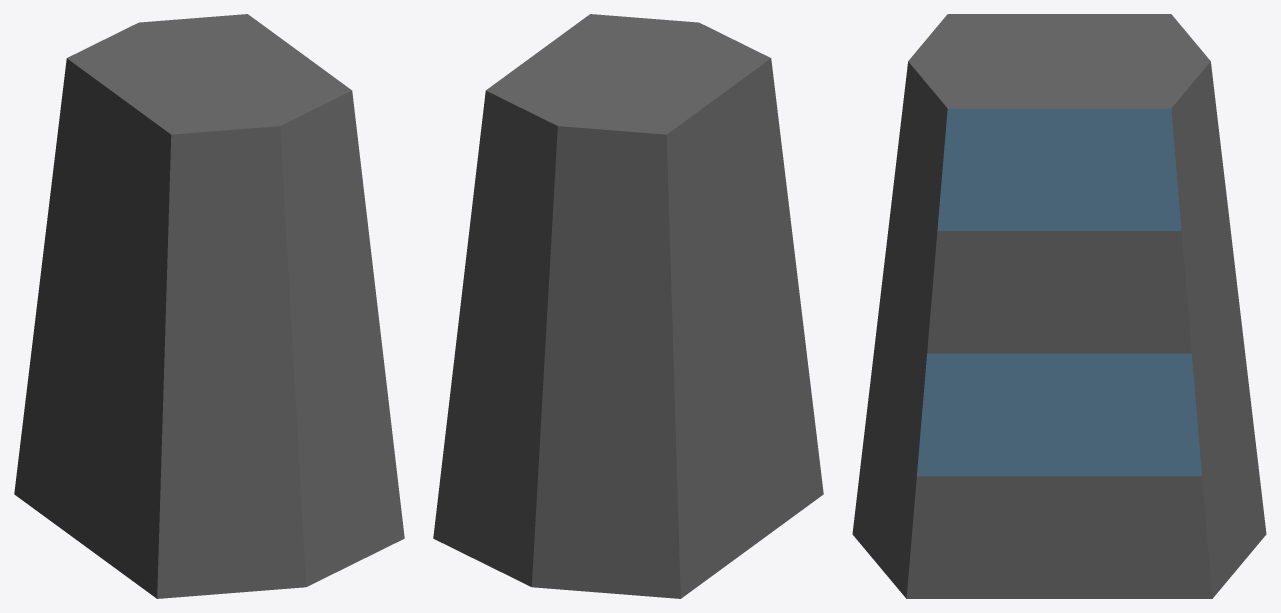
The model's file is CrafterTorso.fbx.
The picture shows the model from 3 angles, left to right: view 1: azimuth 30°, elevation 25°; view 2: azimuth 150°, elevation 25°; view 3: azimuth 270°, elevation 25°; orthographic projection. The views are drawn at different scales.
Parts seen in each view (by area): view 1: Smith Tunic; view 2: Smith Tunic; view 3: Smith Tunic.
Boxes of the visible parts, bbox=[...] form: Smith Tunic: bbox=[14, 14, 404, 598]; Smith Tunic: bbox=[433, 14, 823, 598]; Smith Tunic: bbox=[852, 14, 1266, 598].
Size of the model in its own units: 217 by 371 by 294.
